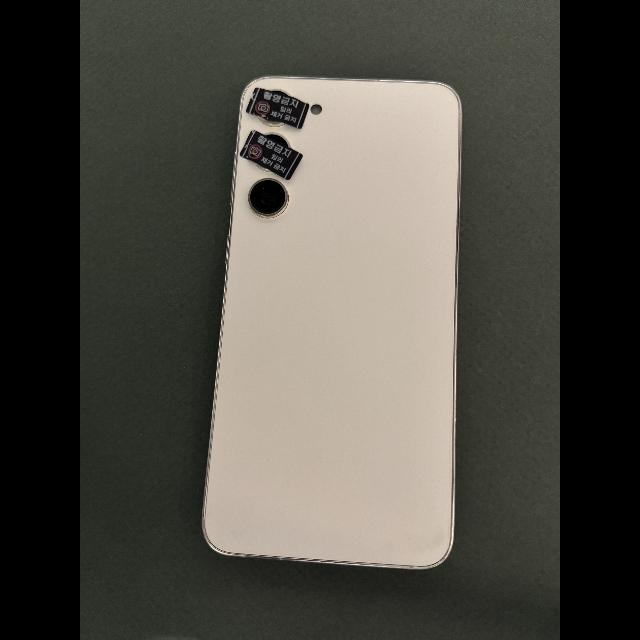lens: (249, 179, 288, 216), (263, 134, 290, 148), (260, 118, 284, 126)
phone: (202, 75, 462, 569), (203, 77, 461, 569)
sticker: (240, 130, 303, 181), (246, 87, 309, 130)
